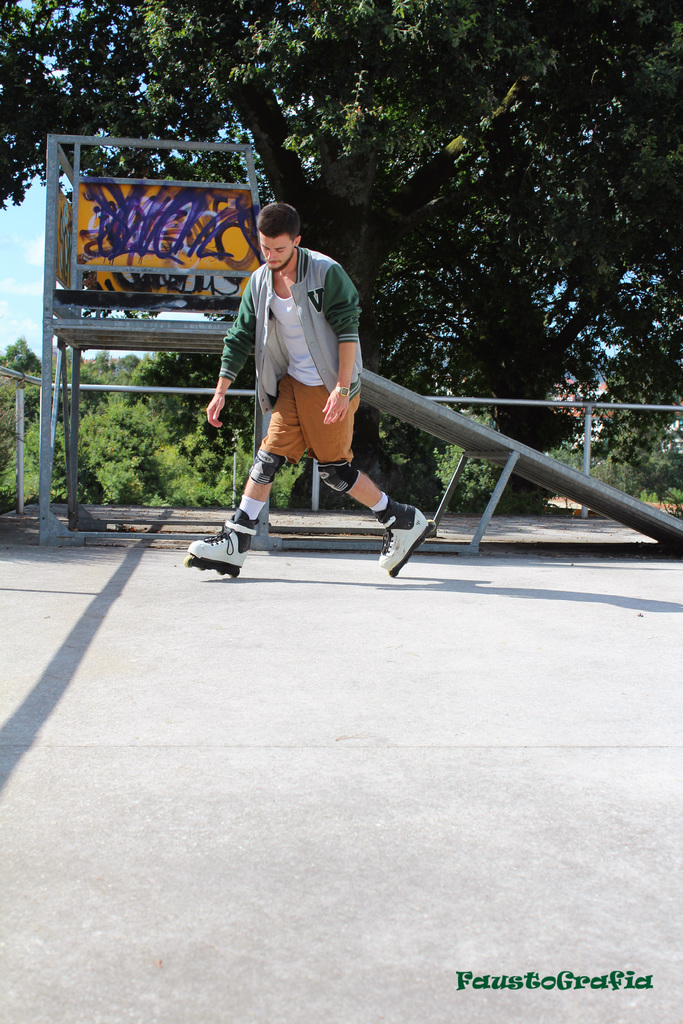Person: (183, 200, 436, 578)
